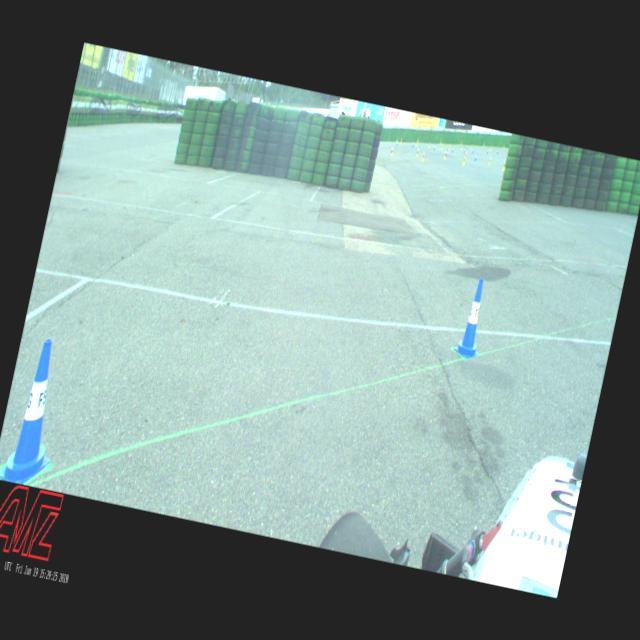blue_cone: (0, 332, 74, 488), (452, 276, 492, 362), (473, 152, 478, 160), (462, 146, 466, 152), (471, 146, 474, 154), (432, 144, 436, 150), (390, 144, 393, 152), (496, 147, 499, 154), (416, 146, 419, 153), (444, 149, 447, 156), (486, 148, 489, 154), (411, 141, 414, 147), (396, 139, 398, 146), (452, 146, 454, 152)
orange_cone: (463, 149, 468, 157)
yellow_cone: (420, 151, 424, 162), (415, 148, 419, 158), (442, 151, 447, 159), (390, 146, 394, 156), (462, 157, 466, 166), (502, 162, 506, 170), (488, 156, 491, 164), (460, 142, 463, 150), (448, 143, 451, 150), (399, 138, 402, 144), (470, 144, 472, 150), (489, 146, 492, 150), (428, 142, 430, 148), (439, 140, 442, 144), (416, 140, 418, 146), (502, 143, 504, 149), (440, 144, 442, 149), (482, 141, 484, 146), (416, 138, 418, 142)
